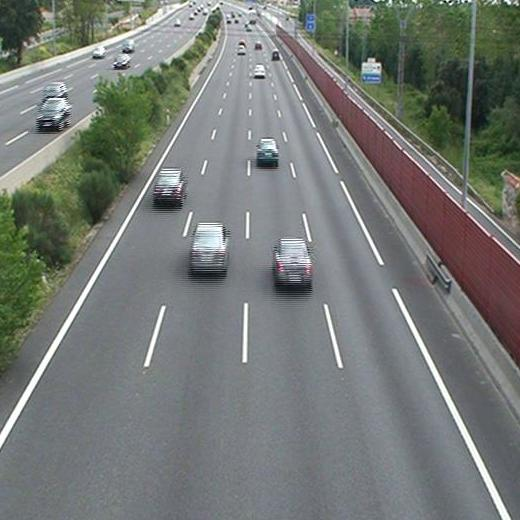car: (274, 237, 311, 283), (191, 224, 227, 270), (154, 169, 184, 200), (256, 139, 278, 161), (253, 65, 266, 77), (237, 45, 246, 55), (271, 50, 279, 59)
